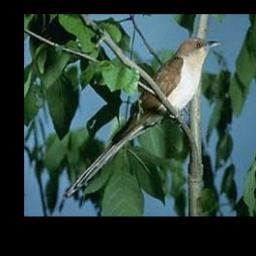Cuckoo: (62, 34, 225, 203)
